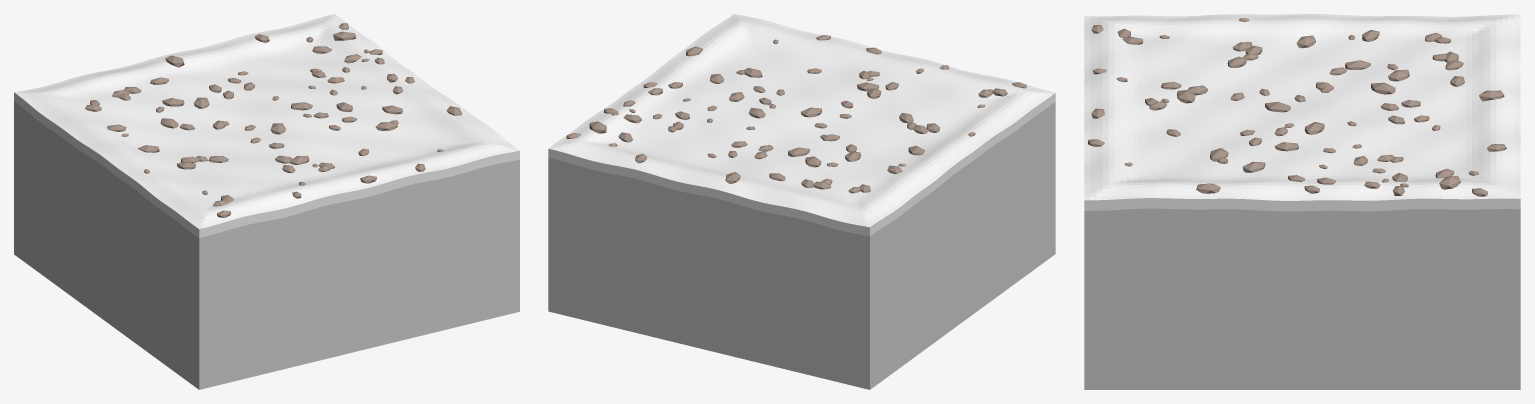
File: 高原坪.glb
The picture shows the model from 3 angles, left to right: view 1: azimuth 30°, elevation 25°; view 2: azimuth 150°, elevation 25°; view 3: azimuth 270°, elevation 25°; orthographic projection. The views are drawn at different scales.
Visible parts, largest first — view 1: 02 Soil profile - topsoil and subsoil, 01 Surface - sculptable grid; view 2: 02 Soil profile - topsoil and subsoil, 01 Surface - sculptable grid; view 3: 02 Soil profile - topsoil and subsoil, 01 Surface - sculptable grid.
Boxes of the visible parts, bbox=[...] form: 02 Soil profile - topsoil and subsoil: bbox=[14, 92, 519, 389]; 01 Surface - sculptable grid: bbox=[14, 14, 519, 228]; 02 Soil profile - topsoil and subsoil: bbox=[548, 93, 1055, 389]; 01 Surface - sculptable grid: bbox=[548, 14, 1054, 227]; 02 Soil profile - topsoil and subsoil: bbox=[1084, 198, 1520, 389]; 01 Surface - sculptable grid: bbox=[1084, 14, 1520, 200].
Size of the model in its own units: 6 by 3.05 by 6.
